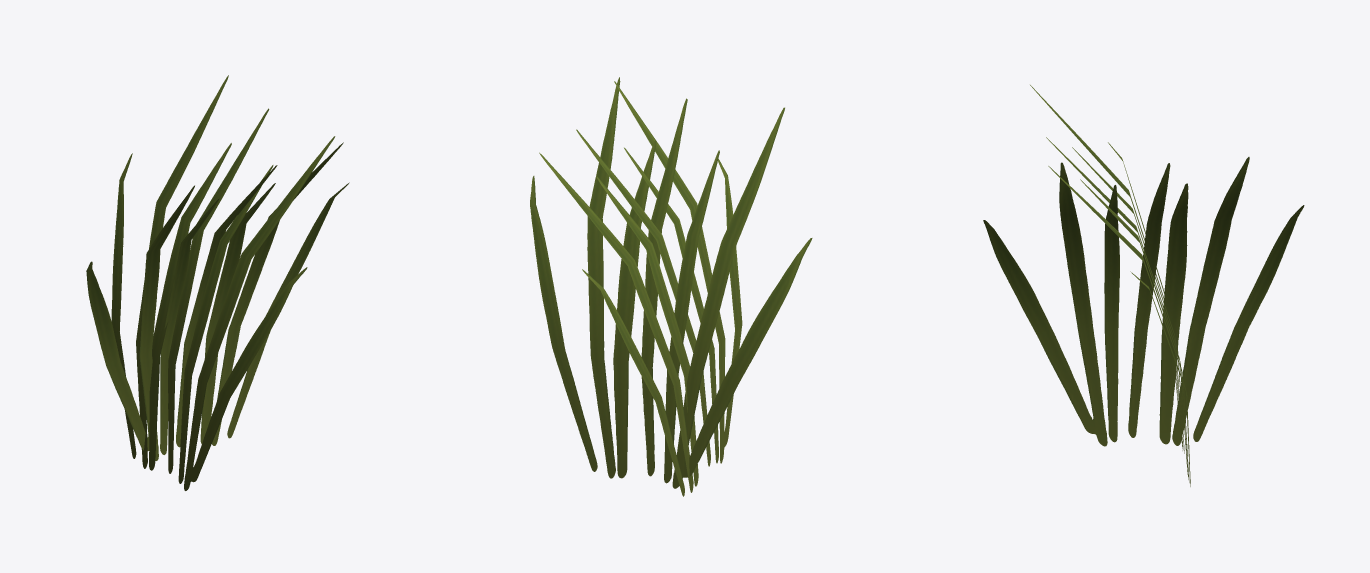
File: grass_4.FBX
3 views of the same model, side by side, from view 1: azimuth 30°, elevation 25°; view 2: azimuth 150°, elevation 25°; view 3: azimuth 270°, elevation 25° (orthographic). The views are drawn at different scales.
Visible parts, largest first — view 1: Grass-4; view 2: Grass-4; view 3: Grass-4.
Part boxes in pixels (x1,y1,x2,y2): Grass-4: (86, 75, 349, 490); Grass-4: (530, 77, 812, 496); Grass-4: (983, 85, 1304, 486).
Size of the model in its own units: 29.62 by 28.72 by 29.62.
